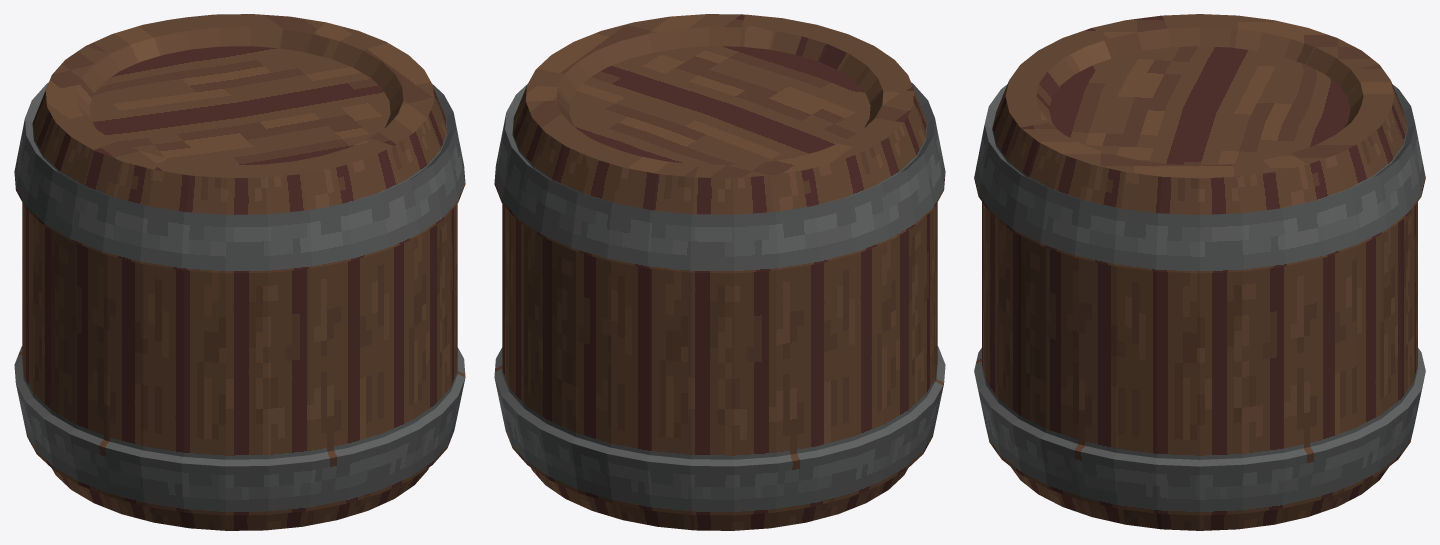
Rendered from barresmall.glb.
3 views of the same model, side by side, from view 1: azimuth 30°, elevation 25°; view 2: azimuth 150°, elevation 25°; view 3: azimuth 270°, elevation 25° (orthographic).
Visible parts, largest first — view 1: barrel-col; view 2: barrel-col; view 3: barrel-col.
Part boxes in pixels (<box>): barrel-col: <box>14,14,465,530</box>; barrel-col: <box>494,14,945,530</box>; barrel-col: <box>974,14,1425,530</box>.
Bounding box in the file's own units: 1.44 × 1.24 × 1.44.
Materials: 1 (1 with a texture image).
